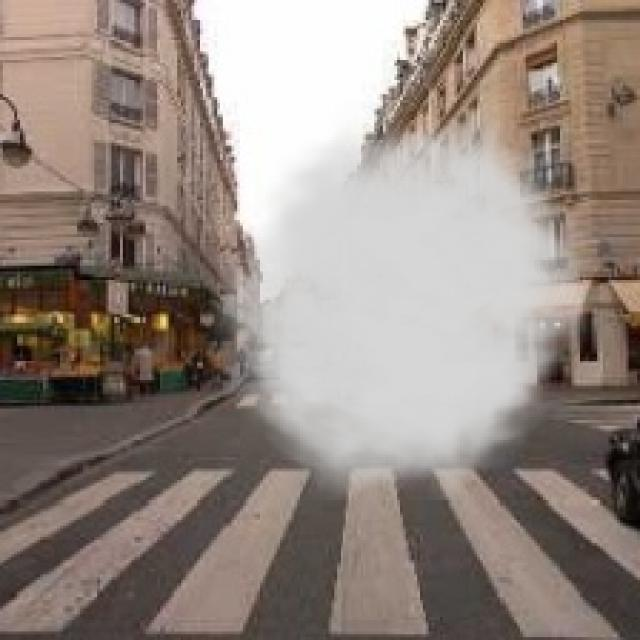Smoke: (200, 100, 609, 500)
